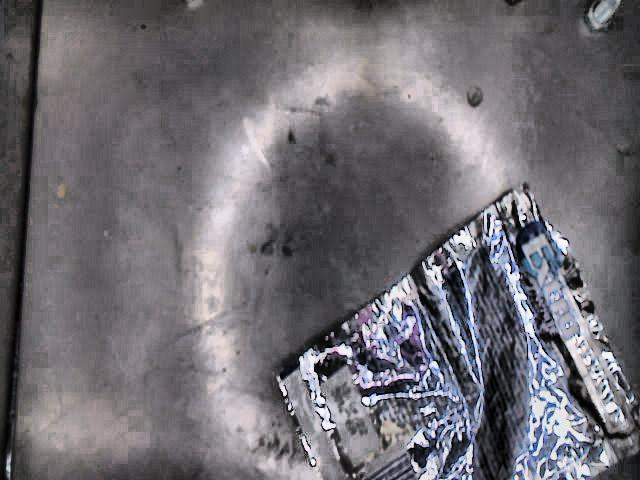Plastic: (273, 181, 640, 480)
